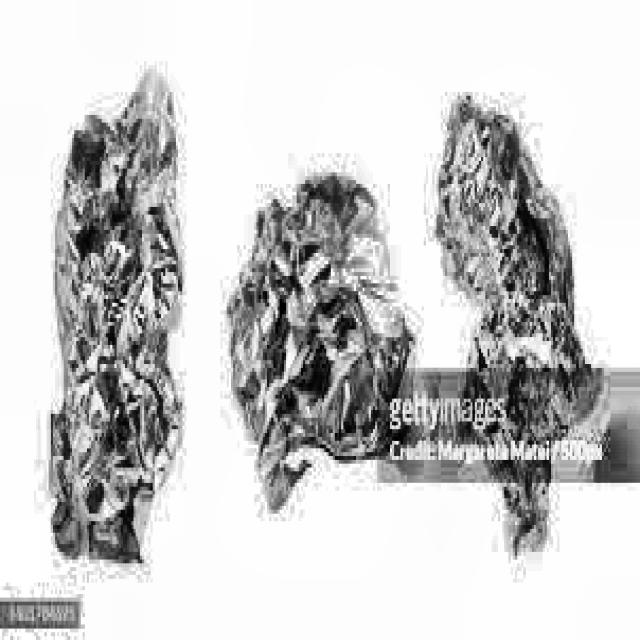Foil: (422, 77, 612, 576), (215, 122, 430, 561), (32, 46, 194, 600)
